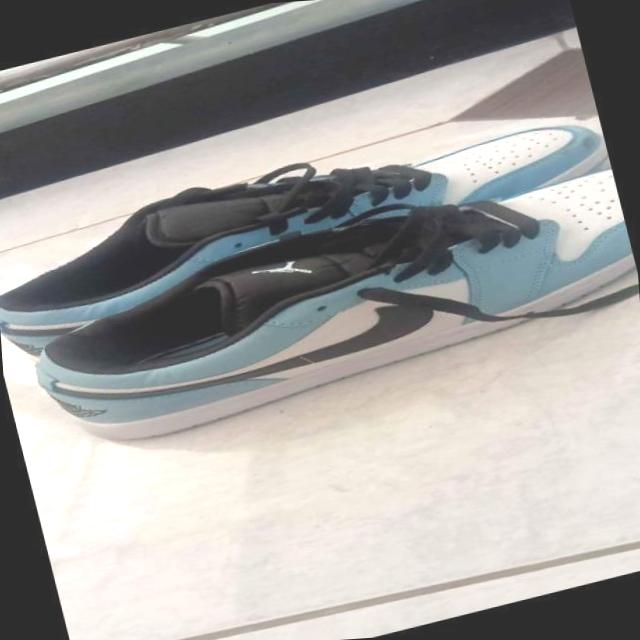nike_fake_jordan: (0, 162, 640, 457), (0, 87, 620, 319)
